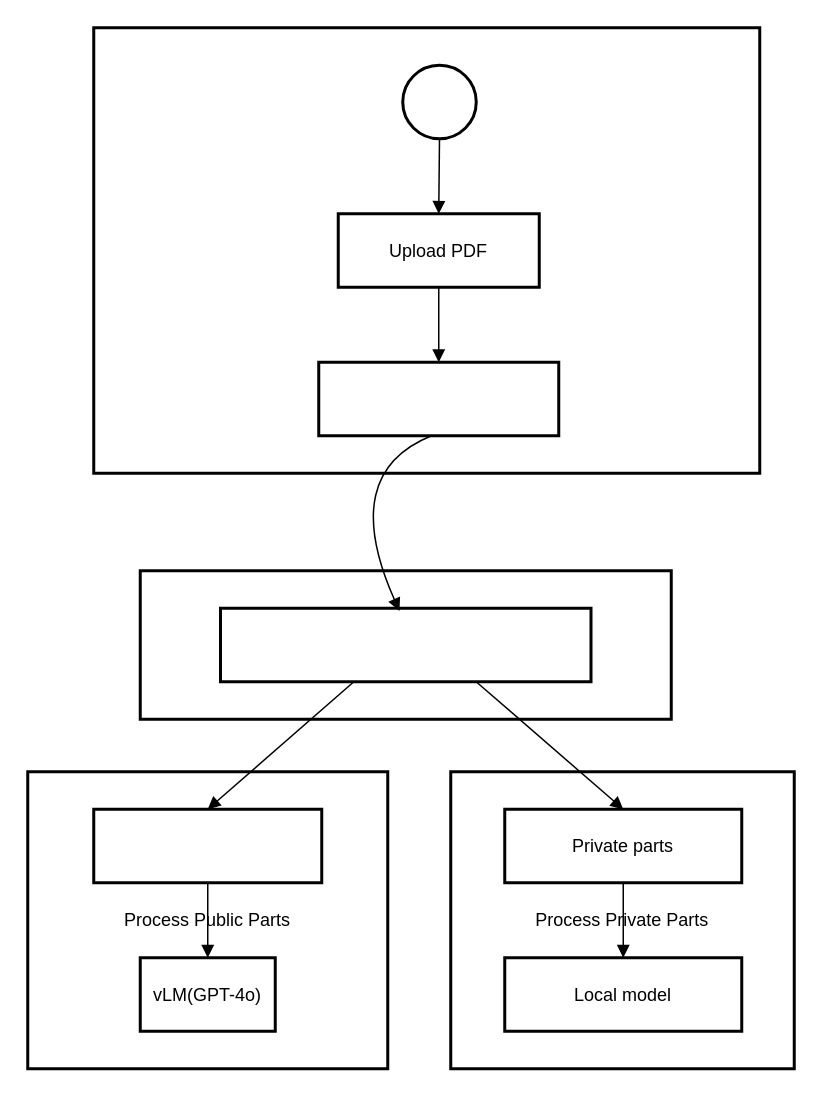
Image size: 821x1095. Some labels were removed from this diagram. Here are the shapes that lost their labels. From the top down, the centre of each, then its label:
At pixel 438 101: "start".
At pixel 438 398: "Extract image each page".
At pixel 405 644: "Split to private and public parts".
At pixel 207 845: "Public parts".
